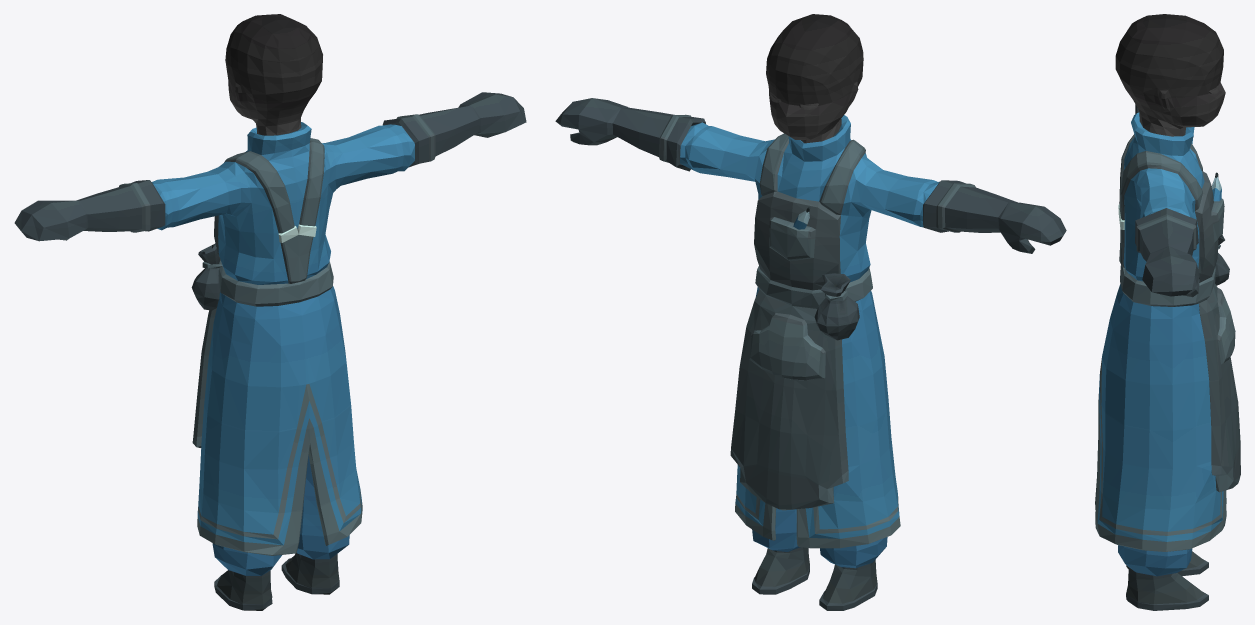
File: CharSkyKid_Body_AP22Designer.glb
3 views of the same model, side by side, from view 1: azimuth 30°, elevation 25°; view 2: azimuth 150°, elevation 25°; view 3: azimuth 270°, elevation 25° (orthographic).
Visible parts, largest first — view 1: CharSkyKid_Body_AP22Designer; view 2: CharSkyKid_Body_AP22Designer; view 3: CharSkyKid_Body_AP22Designer.
Part boxes in pixels (<box>): CharSkyKid_Body_AP22Designer: <box>14,14,526,610</box>; CharSkyKid_Body_AP22Designer: <box>555,14,1066,610</box>; CharSkyKid_Body_AP22Designer: <box>1095,14,1240,610</box>.
Size of the model in its own units: 13.85 by 14.97 by 3.5.
1 material, 1 textured.
